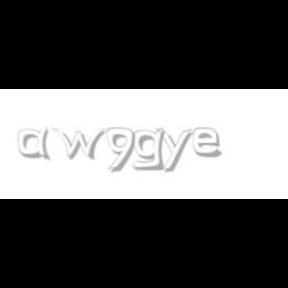9: (106, 128, 136, 172)
a: (18, 128, 55, 160)
e: (192, 128, 225, 158)
g: (132, 128, 170, 171)
w: (52, 128, 110, 160)
y: (156, 128, 196, 172)
